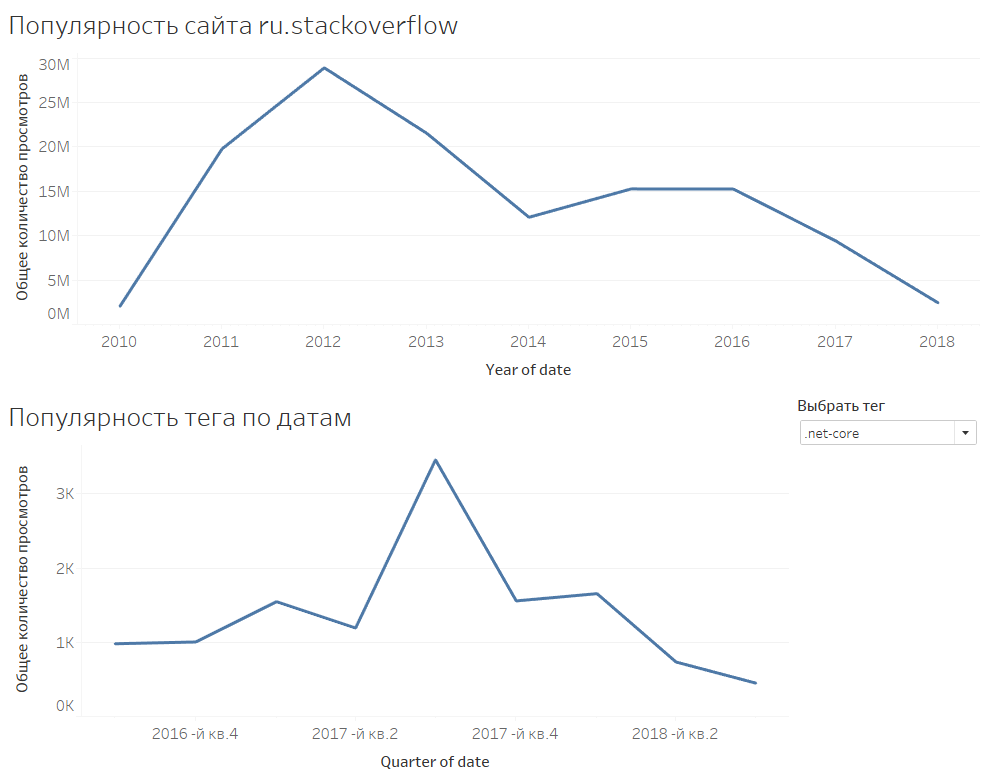

The page's visual inventory and layout, read from the dashboard file:
{"tool":"tableau","page":{"name":"Dashboard 1","canvas":[1000,800],"ordinal":0},"visuals":[{"type":"worksheet","title":"Sheet 1","mark":"Automatic","rows":["VIEW_COUNT"],"cols":["date"],"box":[8,8,984,392]},{"type":"worksheet","title":"Sheet 2","mark":"Automatic","rows":["TOTAL_VIEW_COUNT"],"cols":["date"],"box":[8,400,792.9,392]},{"type":"filter","title":"Sheet 2","param":"[federated.0136jj50umzfni1c2w05k14wvvpq].[none:TAG_NAME:nk]","box":[800.9,400,191.1,392]}]}

Visuals, with their boxes in screenshot pixels (x1, y1, x2, y2), scaled from the page's 1000x800 canvas onto the 988x781 screenshot:
"Sheet 1" worksheet: locate(8, 8, 980, 390)
"Sheet 2" worksheet: locate(8, 390, 791, 773)
"Sheet 2" filter: locate(791, 390, 980, 773)
